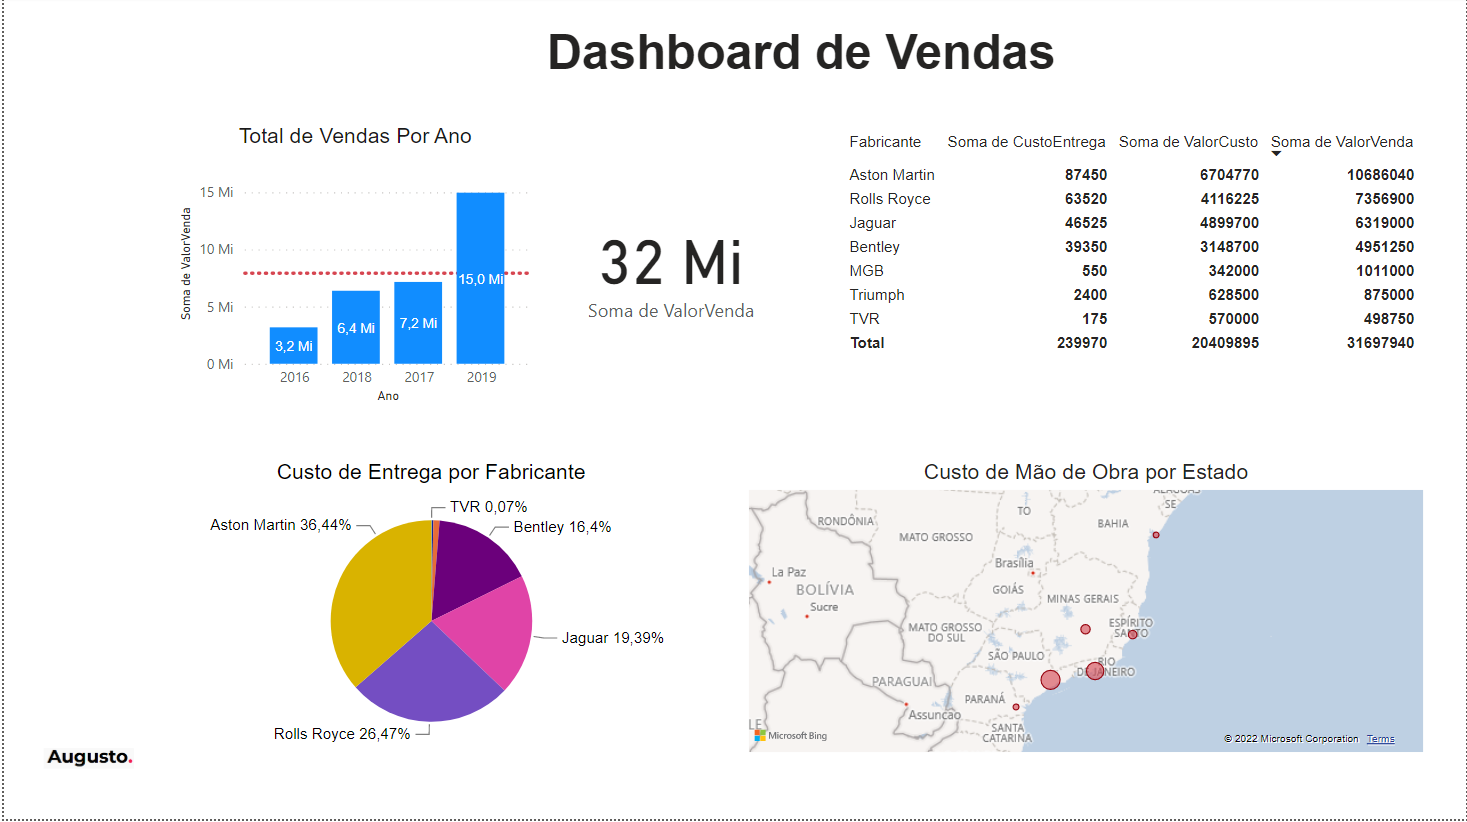

Layout of this report page (visuals, bound fields, positions):
{"tool":"powerbi","page":{"name":"Página 1","canvas":[1280,720],"ordinal":0},"visuals":[{"type":"clusteredColumnChart","title":"Total de Vendas Por Ano","fields":{"Category":["VendaCarros (2).Ano"],"Y":["Sum(VendaCarros (2).ValorVenda)"]},"box":[149,111,317.6,249],"z":0},{"type":"pieChart","title":"Custo de Entrega por Fabricante","fields":{"Category":["VendaCarros (2).Fabricante"],"Y":["Sum(VendaCarros (2).CustoEntrega)"]},"box":[149,405.2,450.5,260.7],"z":1},{"type":"map","title":"Custo de Mão de Obra por Estado","fields":{"Category":["VendaCarros (2).Estado"],"Size":["Sum(VendaCarros (2).CustoMaoDeObra)"]},"box":[646.9,405.2,600.9,260.7],"z":2},{"type":"card","fields":{"Values":["Sum(VendaCarros (2).ValorVenda)"]},"box":[491.4,111,186.2,249],"z":3},{"type":"pivotTable","fields":{"Rows":["VendaCarros (2).Fabricante"],"Values":["Sum(VendaCarros (2).CustoEntrega)","Sum(VendaCarros (2).ValorCusto)","Sum(VendaCarros (2).ValorVenda)"]},"box":[730.2,111,517.7,237.3],"z":4},{"type":"textbox","box":[149,19,1098.9,59.9],"z":5},{"type":"image","box":[29.8,621.9,89.3,89.3],"z":6}]}

Visuals, with their boxes in screenshot pixels (x1, y1, x2, y2), scaled from the page's 1280x720 canvas onto the 1467x822 screenshot:
"Total de Vendas Por Ano" clusteredColumnChart: bbox=[171, 127, 535, 411]
"Custo de Entrega por Fabricante" pieChart: bbox=[171, 463, 687, 760]
"Custo de Mão de Obra por Estado" map: bbox=[741, 463, 1430, 760]
card - Sum(VendaCarros (2).ValorVenda): bbox=[563, 127, 777, 411]
pivotTable - VendaCarros (2).Fabricante x Sum(VendaCarros (2).CustoEntrega): bbox=[837, 127, 1430, 398]
textbox: bbox=[171, 22, 1430, 90]
image: bbox=[34, 710, 136, 812]
